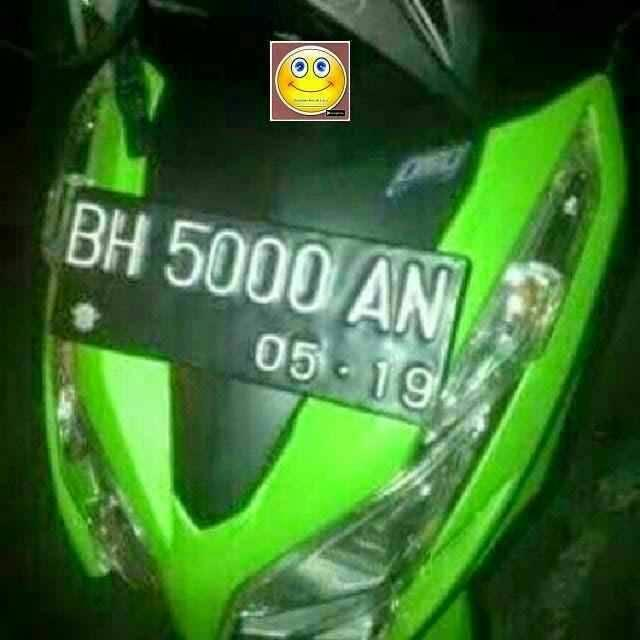plate: (68, 185, 455, 417)
